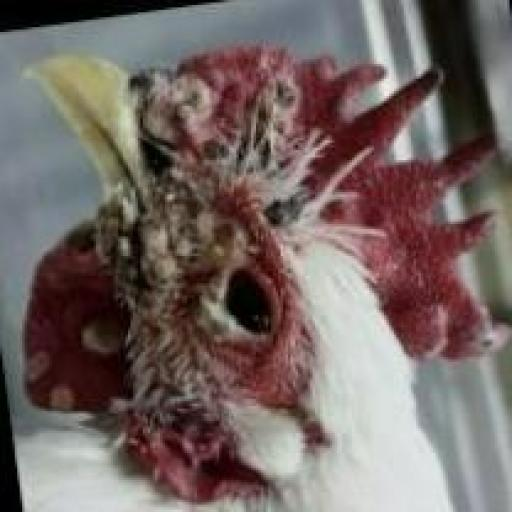disease: (74, 61, 357, 444)
